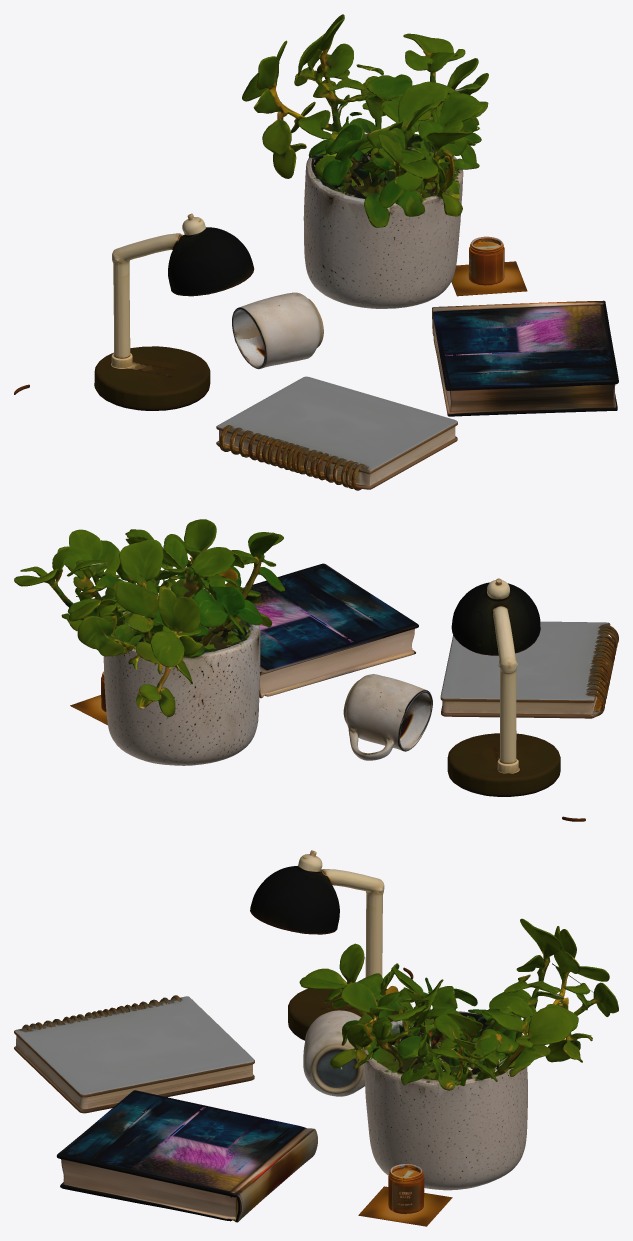
The model's file is simfoundry.glb.
3 renders of one model, top to bottom at view 1: azimuth 30°, elevation 25°; view 2: azimuth 150°, elevation 25°; view 3: azimuth 270°, elevation 25°, orthographic. The views are drawn at different scales.
Parts seen in each view (by area): view 1: potted_plant_yinkog_link_iter_5_canonical_mesh_obj, hardcover_book_cjvuxd_link_iter_1_canonical_mesh_obj, brown_spiral_notebook_umgppq_link_iter_0_canonical_mesh_obj, black_desk_lamp_rdqfle_link_iter_3_canonical_mesh_obj, white_ceramic_mug_lnxrpo_link_iter_2_canonical_mesh_obj, amber_candle_jar_orkbpx_link_iter_4_canonical_mesh_obj; view 2: potted_plant_yinkog_link_iter_5_canonical_mesh_obj, hardcover_book_cjvuxd_link_iter_1_canonical_mesh_obj, black_desk_lamp_rdqfle_link_iter_3_canonical_mesh_obj, brown_spiral_notebook_umgppq_link_iter_0_canonical_mesh_obj, white_ceramic_mug_lnxrpo_link_iter_2_canonical_mesh_obj, amber_candle_jar_orkbpx_link_iter_4_canonical_mesh_obj; view 3: potted_plant_yinkog_link_iter_5_canonical_mesh_obj, hardcover_book_cjvuxd_link_iter_1_canonical_mesh_obj, brown_spiral_notebook_umgppq_link_iter_0_canonical_mesh_obj, black_desk_lamp_rdqfle_link_iter_3_canonical_mesh_obj, white_ceramic_mug_lnxrpo_link_iter_2_canonical_mesh_obj, amber_candle_jar_orkbpx_link_iter_4_canonical_mesh_obj.
Part boxes in pixels (x1,y1,x2,y2): potted_plant_yinkog_link_iter_5_canonical_mesh_obj: (242,14,488,308); hardcover_book_cjvuxd_link_iter_1_canonical_mesh_obj: (432,300,618,416); brown_spiral_notebook_umgppq_link_iter_0_canonical_mesh_obj: (216,376,457,490); black_desk_lamp_rdqfle_link_iter_3_canonical_mesh_obj: (94,213,254,410); white_ceramic_mug_lnxrpo_link_iter_2_canonical_mesh_obj: (232,292,323,369); amber_candle_jar_orkbpx_link_iter_4_canonical_mesh_obj: (451,236,527,296); potted_plant_yinkog_link_iter_5_canonical_mesh_obj: (14,519,284,765); hardcover_book_cjvuxd_link_iter_1_canonical_mesh_obj: (243,563,418,698); black_desk_lamp_rdqfle_link_iter_3_canonical_mesh_obj: (447,578,560,796); brown_spiral_notebook_umgppq_link_iter_0_canonical_mesh_obj: (440,621,618,718); white_ceramic_mug_lnxrpo_link_iter_2_canonical_mesh_obj: (343,674,432,760); amber_candle_jar_orkbpx_link_iter_4_canonical_mesh_obj: (70,671,107,725); potted_plant_yinkog_link_iter_5_canonical_mesh_obj: (299,918,618,1190); hardcover_book_cjvuxd_link_iter_1_canonical_mesh_obj: (56,1090,317,1222); brown_spiral_notebook_umgppq_link_iter_0_canonical_mesh_obj: (14,995,254,1113); black_desk_lamp_rdqfle_link_iter_3_canonical_mesh_obj: (250,850,404,1040); white_ceramic_mug_lnxrpo_link_iter_2_canonical_mesh_obj: (303,1010,364,1096); amber_candle_jar_orkbpx_link_iter_4_canonical_mesh_obj: (358,1164,452,1226).
Size of what is drawn, in the model's own units: 0.8066 by 0.3547 by 0.803.
7 materials, 7 textured.
